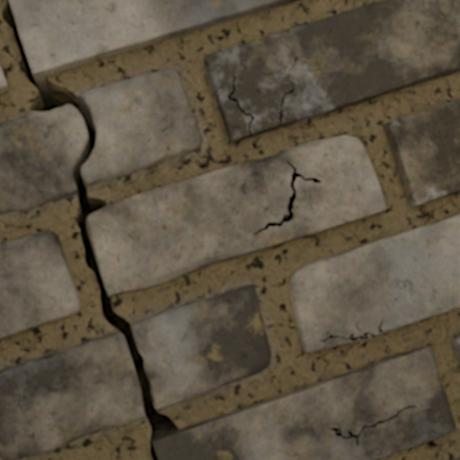brick: (88, 136, 385, 295), (204, 0, 459, 142), (153, 348, 455, 459), (289, 215, 459, 352), (10, 0, 295, 77), (0, 232, 79, 337), (384, 99, 459, 205), (0, 65, 7, 92), (453, 336, 459, 360)
broken_brick: (0, 331, 144, 459), (131, 283, 271, 409), (79, 69, 202, 185), (0, 105, 86, 215)
crack: (2, 0, 178, 459), (227, 74, 254, 135), (318, 331, 374, 342), (378, 317, 383, 333)
